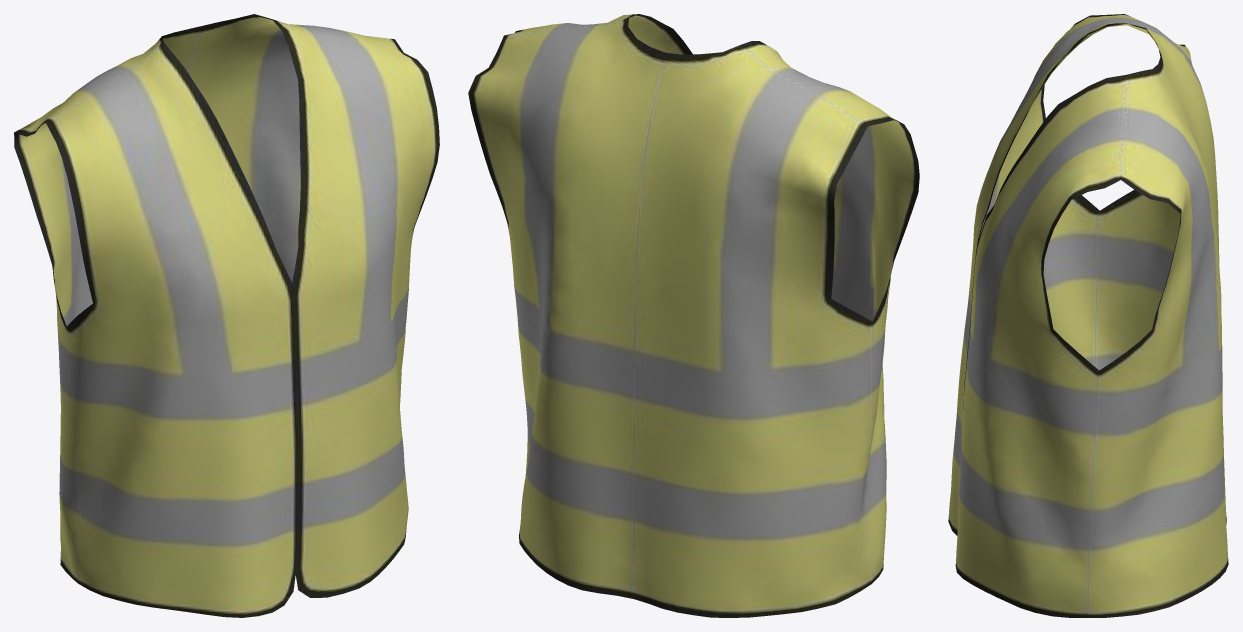
Rendered from vest.glb.
3 renders of one model, left to right at view 1: azimuth 30°, elevation 25°; view 2: azimuth 150°, elevation 25°; view 3: azimuth 270°, elevation 25°, orthographic. The views are drawn at different scales.
Parts seen in each view (by area): view 1: Object_8; view 2: Object_8; view 3: Object_8.
Boxes of the visible parts, x1,y1,x2,y2 form: Object_8: (14,14,439,617); Object_8: (468,14,919,617); Object_8: (948,14,1228,617).
Size of the model in its own units: 0.4538 by 0.6052 by 0.3076.
Materials: 1 (1 with a texture image).
